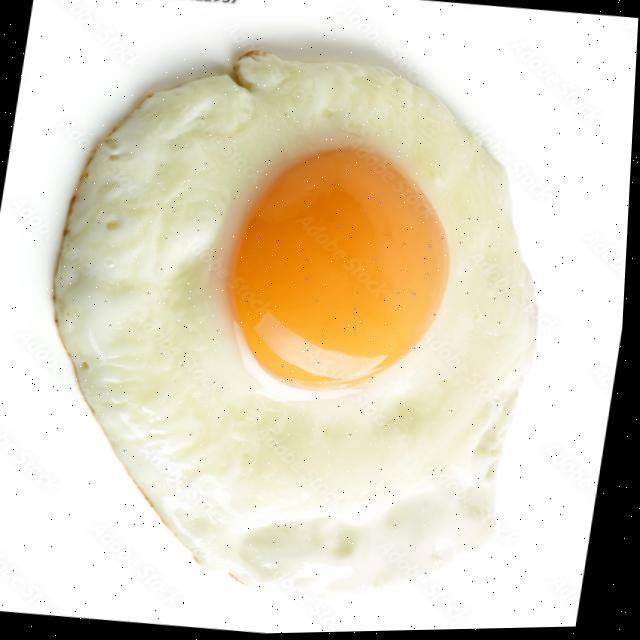Egg: (57, 51, 539, 595)
